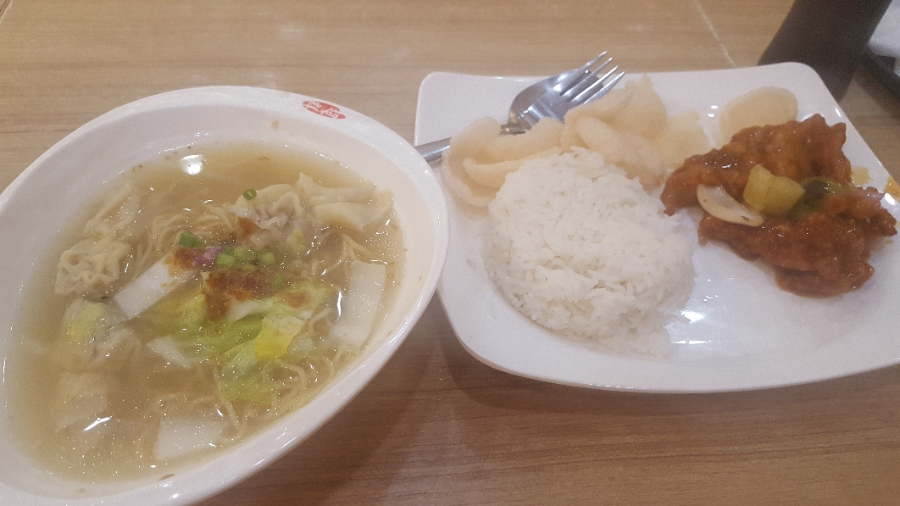meatballs: (727, 135, 863, 264)
plain rice: (523, 176, 673, 314)
